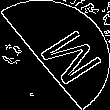M_SW: (16, 21, 94, 89)
